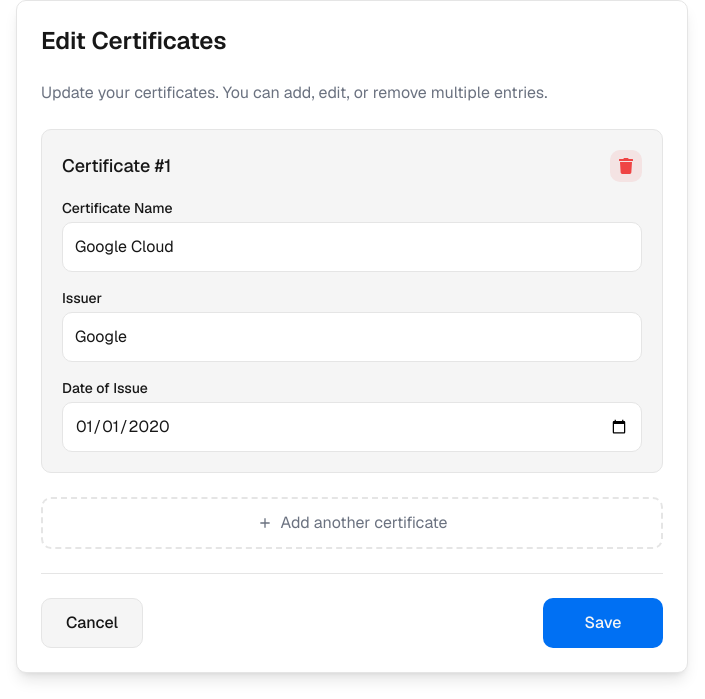
Test: EditCertificatesForm Component › Zarządzanie formularzem (FieldArray) › powinien usunąć wpis po kliknięciu ikony usuwania
Click the button titled "Remove certificate".
click(626, 166)  # box [610,150,642,182]
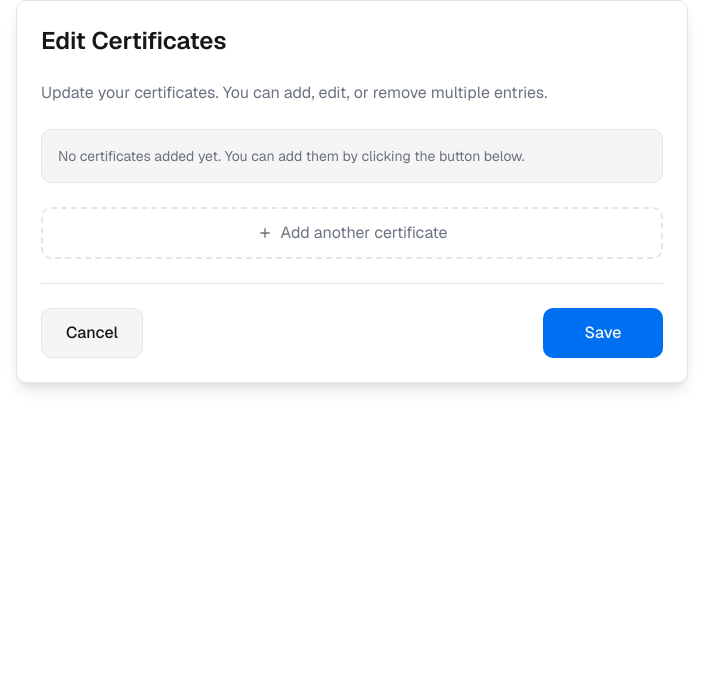
Expected: the heading "Certificate #1" is gone
Expected: the text "No certificates added yet" is shown, [58,147,524,165]
